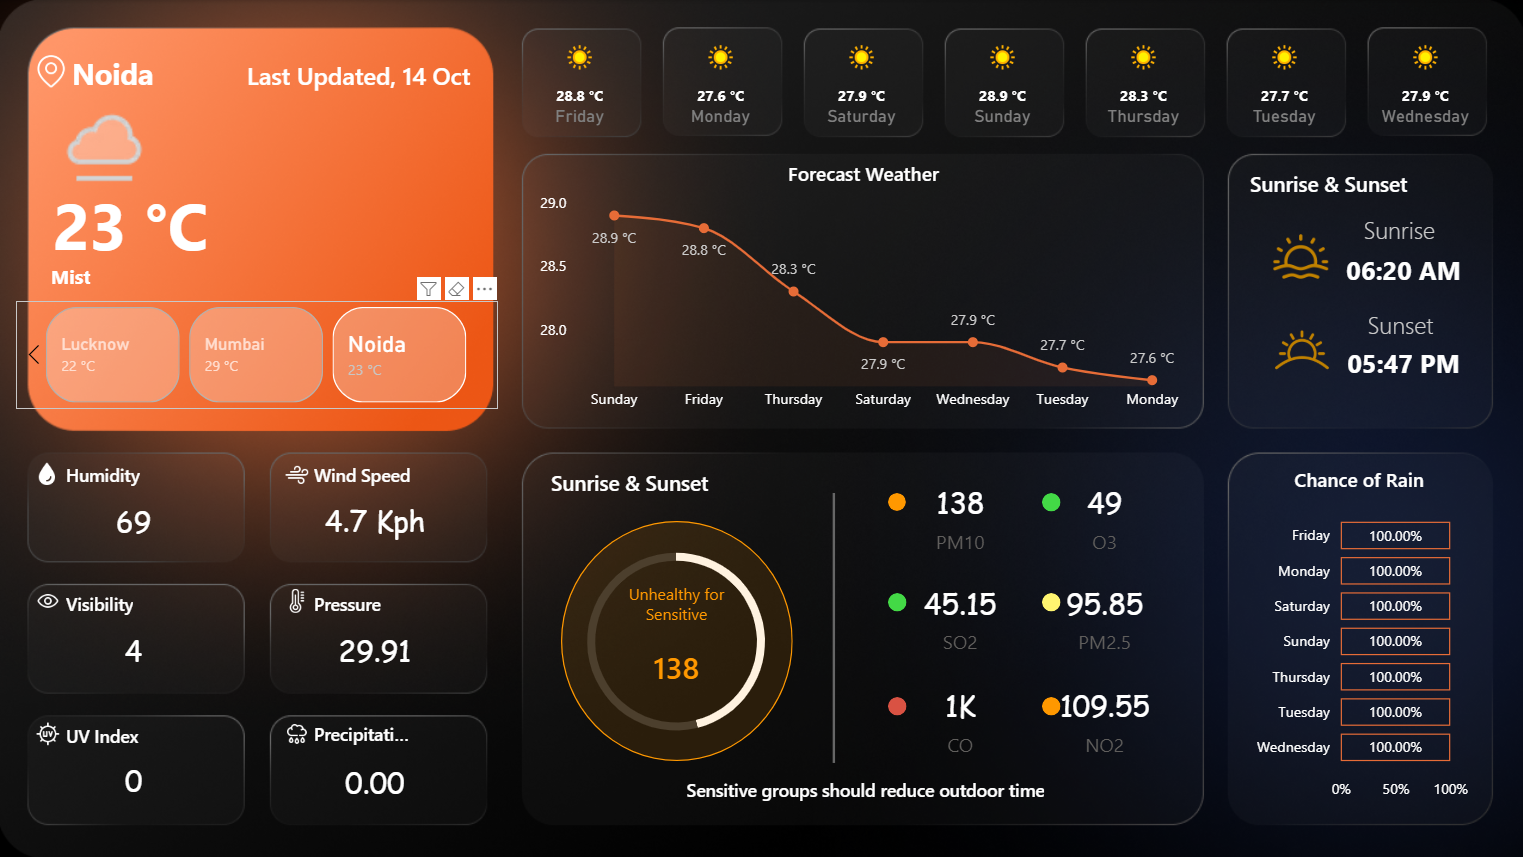

The page's visual inventory and layout, read from the dashboard file:
{"tool":"powerbi","page":{"name":"Page 1","canvas":[1280,720],"ordinal":0},"visuals":[{"type":"donutChart","fields":{"Y":["Sum(Current.current.air_quality.pm10)","_Measures.Left_value_PM10"]},"box":[470,426,196,222],"z":0},{"type":"advancedSlicerVisual","fields":{"Values":["Locations.location.name"]},"box":[15.1,251.9,403.3,90.8],"z":1000},{"type":"shape","box":[15.7,141.4,190,90],"z":2000},{"type":"shape","box":[44.7,213.8,356.3,34.9],"z":3000},{"type":"shape","box":[61.9,44,133.5,34.4],"z":4000},{"type":"shape","box":[208.2,46.1,206.8,33.5],"z":5000},{"type":"image","box":[26.2,39.9,37.2,39.9],"z":6000},{"type":"cardVisual","fields":{"Data":["Min(Current.current.condition.icon)"]},"box":[0,55.7,150,111.4],"z":7000},{"type":"image","box":[27,488.5,29.6,29.6],"z":8000},{"type":"shape","box":[264.7,384,83.6,26.1],"z":9000},{"type":"image","box":[26.1,381.4,30.5,30.5],"z":10000},{"type":"image","box":[235.1,382.3,29.6,29.6],"z":11000},{"type":"image","box":[235.1,488.5,29.6,29.6],"z":12000},{"type":"image","box":[27,599.1,29.6,29.6],"z":13000},{"type":"image","box":[235.1,599.1,29.6,29.6],"z":14000},{"type":"shape","box":[56.6,492,83.6,26.1],"z":15000},{"type":"shape","box":[56.6,602.6,83.6,26.1],"z":16000},{"type":"shape","box":[264.7,600.8,83.6,26.1],"z":17000},{"type":"shape","box":[264.7,492,83.6,26.1],"z":18000},{"type":"shape","box":[56.6,384,83.6,26.1],"z":19000},{"type":"card","fields":{"Values":["Sum(Current.current.humidity)"]},"box":[62,410.2,103,55.3],"z":20000},{"type":"card","fields":{"Values":["Sum(Current.current.uv)"]},"box":[62,627.1,103,56.1],"z":21000},{"type":"card","fields":{"Values":["Sum(Current.current.vis_km)"]},"box":[62,518.2,103,56.1],"z":22000},{"type":"card","fields":{"Values":["Sum(Current.current.precip_in)"]},"box":[264.1,628.8,103.4,55.9],"z":23000},{"type":"card","fields":{"Values":["Sum(Current.current.pressure_in)"]},"box":[264.1,518.4,103.4,55.9],"z":24000},{"type":"card","fields":{"Values":["_Measures.Wind_Speed"]},"box":[254.5,409.4,122.2,56.1],"z":25000},{"type":"advancedSlicerVisual","fields":{"Values":["Forcast_Day.Day_Name"]},"box":[429.4,23.4,829.9,100.5],"z":26000},{"type":"lineChart","title":"Forecast Weather","fields":{"Y":["Sum(Forcast_Day.forecast.forecastday.day.avgtemp_c)"],"Category":["Forcast_Day.Day_Name"]},"box":[447.9,134.8,553.4,217.7],"z":27000},{"type":"shape","box":[1048.4,140.9,152.4,25.9],"z":28000},{"type":"shape","box":[1081.3,180,190.5,90.7],"z":29000},{"type":"shape","box":[1081.3,257.5,190.5,90.7],"z":30000},{"type":"shape","box":[1132.6,257.5,82.8,26.3],"z":31000},{"type":"shape","box":[1131.2,178.7,84.1,26.3],"z":32000},{"type":"image","box":[1051.1,186.6,80.1,56.5],"z":33000},{"type":"image","box":[1051.1,257.5,81.5,69.6],"z":34000},{"type":"hundredPercentStackedBarChart","title":"Chance of Rain","fields":{"Y":["Sum(Forcast_Day.forecast.forecastday.day.daily_chance_of_rain)","Current.Left_value_Rain"],"Category":["Forcast_Day.Day_Name"]},"box":[1043.3,390.9,192.7,287.7],"z":35000},{"type":"shape","box":[463.1,391.2,152.4,25.9],"z":36000},{"type":"card","fields":{"Values":["Sum(Current.current.air_quality.o3)"]},"box":[866.4,397,119.9,72.4],"z":37000},{"type":"card","fields":{"Values":["Sum(Current.current.air_quality.pm10)"]},"box":[745.5,397,121,72.4],"z":38000},{"type":"card","fields":{"Values":["Sum(Current.current.air_quality.so2)"]},"box":[745.5,481.8,121,71.3],"z":39000},{"type":"card","fields":{"Values":["Sum(Current.current.air_quality.pm2_5)"]},"box":[866.4,481.8,119.9,71.3],"z":40000},{"type":"card","fields":{"Values":["Sum(Current.current.air_quality.co)"]},"box":[745.5,566.6,121,72.4],"z":41000},{"type":"card","fields":{"Values":["Sum(Current.current.air_quality.no2)"]},"box":[866.4,566.6,119.9,72.4],"z":42000},{"type":"shape","box":[745.5,412.5,15,15],"z":43000},{"type":"shape","box":[873.7,412.5,15.5,15.5],"z":44000},{"type":"shape","box":[745.5,496.3,15.5,15.5],"z":45000},{"type":"shape","box":[745.5,583.1,15.5,15.5],"z":46000},{"type":"shape","box":[873.7,583.1,15.5,15.5],"z":47000},{"type":"shape","box":[873.7,496.3,15.5,15.5],"z":48000},{"type":"shape","box":[675,413,50,226],"z":49000},{"type":"shape","box":[471,436,194,201],"z":50000},{"type":"card","fields":{"Values":["Sum(Current.current.air_quality.pm10)"]},"box":[504,488,128,109],"z":51000},{"type":"shape","box":[572,648,309,26],"z":52000}]}

Visuals, with their boxes in screenshot pixels (x1, y1, x2, y2), scaled from the page's 1280x720 canvas onto the 1523x857 screenshot:
donutChart - Sum(Current.current.air_quality.pm10) x _Measures.Left_value_PM10: 559/507/792/771
advancedSlicerVisual - Locations.location.name: 18/300/498/408
shape: 19/168/245/275
shape: 53/254/477/296
shape: 74/52/232/93
shape: 248/55/494/95
image: 31/47/75/95
cardVisual - Min(Current.current.condition.icon): 0/66/178/199
image: 32/581/67/617
shape: 315/457/414/488
image: 31/454/67/490
image: 280/455/315/490
image: 280/581/315/617
image: 32/713/67/748
image: 280/713/315/748
shape: 67/586/167/617
shape: 67/717/167/748
shape: 315/715/414/746
shape: 315/586/414/617
shape: 67/457/167/488
card - Sum(Current.current.humidity): 74/488/196/554
card - Sum(Current.current.uv): 74/746/196/813
card - Sum(Current.current.vis_km): 74/617/196/684
card - Sum(Current.current.precip_in): 314/748/437/815
card - Sum(Current.current.pressure_in): 314/617/437/684
card - _Measures.Wind_Speed: 303/487/448/554
advancedSlicerVisual - Forcast_Day.Day_Name: 511/28/1498/147
"Forecast Weather" lineChart: 533/160/1191/420
shape: 1247/168/1429/199
shape: 1287/214/1513/322
shape: 1287/306/1513/414
shape: 1348/306/1446/338
shape: 1346/213/1446/244
image: 1251/222/1346/289
image: 1251/306/1348/389
"Chance of Rain" hundredPercentStackedBarChart: 1241/465/1471/808
shape: 551/466/732/496
card - Sum(Current.current.air_quality.o3): 1031/473/1174/559
card - Sum(Current.current.air_quality.pm10): 887/473/1031/559
card - Sum(Current.current.air_quality.so2): 887/573/1031/658
card - Sum(Current.current.air_quality.pm2_5): 1031/573/1174/658
card - Sum(Current.current.air_quality.co): 887/674/1031/761
card - Sum(Current.current.air_quality.no2): 1031/674/1174/761
shape: 887/491/905/509
shape: 1040/491/1058/509
shape: 887/591/905/609
shape: 887/694/905/713
shape: 1040/694/1058/713
shape: 1040/591/1058/609
shape: 803/492/863/761
shape: 560/519/791/758
card - Sum(Current.current.air_quality.pm10): 600/581/752/711
shape: 681/771/1048/802
